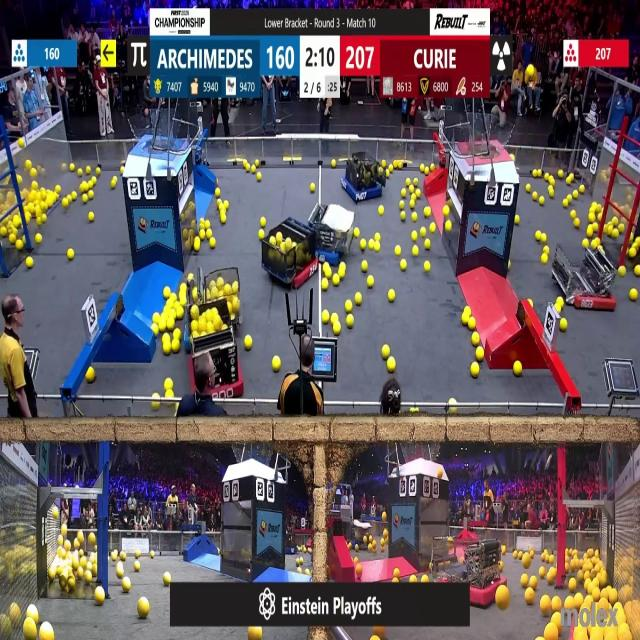ball_airborne: (526, 66, 535, 81), (76, 532, 84, 545), (90, 533, 98, 544), (62, 526, 68, 536), (17, 138, 23, 147), (26, 161, 32, 170), (31, 169, 37, 178)
ball_ground: (496, 588, 508, 610), (40, 624, 53, 640), (26, 622, 38, 639), (139, 598, 149, 618), (95, 588, 106, 606), (546, 626, 560, 640), (540, 597, 550, 615), (249, 627, 261, 640), (514, 360, 523, 376), (273, 356, 282, 371), (525, 589, 534, 604), (553, 597, 562, 612), (564, 596, 574, 609), (88, 366, 96, 381), (552, 614, 562, 626), (470, 362, 478, 376), (474, 348, 482, 362), (122, 579, 130, 593), (387, 358, 395, 372), (470, 334, 478, 347), (382, 346, 390, 359), (172, 341, 180, 354), (568, 580, 576, 593), (556, 300, 564, 313), (574, 594, 582, 607), (165, 342, 172, 356), (245, 338, 252, 352), (190, 306, 197, 320), (560, 319, 568, 331), (334, 322, 342, 334), (322, 265, 330, 277), (86, 570, 94, 582), (546, 570, 554, 582), (322, 311, 329, 324), (339, 265, 346, 278), (166, 379, 173, 392), (630, 289, 638, 300), (176, 308, 184, 319), (167, 318, 175, 329), (629, 248, 637, 259), (27, 256, 34, 268), (355, 292, 362, 304), (346, 302, 353, 314), (347, 315, 354, 327), (165, 572, 172, 584), (330, 312, 337, 324), (388, 290, 395, 302), (522, 574, 529, 586), (588, 224, 595, 236), (530, 575, 537, 587), (179, 292, 186, 304), (68, 249, 75, 260), (446, 220, 453, 231), (15, 240, 22, 251), (334, 276, 341, 287), (523, 557, 530, 568), (13, 216, 20, 227), (356, 564, 362, 576), (165, 286, 171, 298), (193, 239, 199, 251), (468, 318, 474, 330), (164, 335, 172, 344), (571, 189, 579, 198), (591, 239, 599, 248), (174, 328, 181, 338), (538, 567, 545, 577), (589, 213, 596, 223), (540, 234, 547, 244), (566, 174, 573, 184), (170, 294, 177, 304), (46, 199, 53, 209), (362, 262, 368, 273), (322, 279, 328, 290), (620, 267, 626, 278), (360, 240, 366, 251), (152, 324, 158, 335), (116, 566, 122, 577), (547, 186, 553, 197), (540, 254, 547, 263), (81, 193, 88, 202), (611, 217, 618, 226), (152, 391, 159, 400), (367, 276, 372, 288), (394, 246, 400, 256), (210, 239, 216, 249), (36, 234, 42, 244), (424, 264, 430, 274), (400, 262, 406, 272), (259, 217, 265, 227), (258, 231, 264, 241), (152, 400, 158, 410), (413, 246, 419, 256), (354, 229, 360, 239), (220, 213, 226, 223), (134, 562, 140, 572), (429, 222, 435, 232), (63, 199, 69, 209), (152, 313, 158, 323), (573, 218, 579, 228), (420, 228, 426, 238), (216, 200, 222, 210), (0, 228, 6, 238), (9, 235, 15, 245), (206, 230, 212, 240), (80, 182, 86, 192), (242, 162, 248, 172), (111, 552, 117, 562), (604, 222, 610, 232), (182, 230, 188, 240), (421, 574, 428, 582), (36, 216, 43, 224), (464, 307, 469, 318), (111, 177, 116, 188), (444, 207, 450, 216), (379, 207, 385, 216), (413, 233, 419, 242), (424, 208, 430, 217), (201, 231, 207, 240), (411, 200, 417, 209), (538, 197, 544, 206), (308, 186, 314, 195), (375, 243, 381, 252), (611, 230, 617, 239), (620, 223, 626, 232), (584, 239, 590, 248), (414, 178, 420, 187), (206, 219, 212, 228), (413, 212, 418, 222), (635, 267, 640, 277), (425, 240, 430, 250), (535, 232, 540, 242), (26, 214, 31, 224), (191, 288, 196, 298), (412, 574, 418, 582), (563, 200, 569, 208), (187, 274, 193, 282), (56, 185, 62, 193), (89, 190, 95, 198), (180, 284, 186, 292), (526, 184, 532, 192), (119, 554, 125, 562), (558, 170, 564, 178), (78, 168, 84, 176), (90, 212, 95, 221), (516, 215, 521, 224), (570, 210, 575, 219), (532, 190, 537, 199), (256, 173, 261, 182), (223, 201, 228, 210), (567, 191, 572, 200), (41, 214, 46, 223), (592, 203, 597, 212), (392, 576, 398, 583), (542, 247, 548, 254), (578, 185, 584, 192), (420, 166, 426, 173), (92, 177, 98, 184), (250, 166, 256, 173), (376, 234, 381, 242), (400, 212, 405, 220), (400, 188, 405, 196), (215, 188, 220, 196), (72, 191, 77, 199), (306, 568, 311, 576), (368, 240, 372, 250), (416, 189, 421, 197), (70, 163, 75, 171), (532, 170, 537, 178), (385, 170, 390, 178), (550, 179, 555, 187), (514, 552, 519, 560), (384, 529, 389, 537), (394, 568, 398, 577), (399, 201, 403, 210), (543, 174, 547, 183), (254, 162, 260, 168), (451, 410, 457, 416), (296, 567, 301, 574), (412, 191, 417, 198), (122, 165, 127, 172), (136, 552, 141, 559), (430, 165, 435, 172), (97, 168, 101, 176), (331, 161, 335, 169), (408, 180, 412, 188), (86, 166, 90, 174), (296, 558, 300, 566), (68, 193, 72, 201), (450, 398, 456, 403), (165, 308, 170, 314), (150, 553, 154, 560), (370, 636, 377, 640), (386, 164, 390, 171), (119, 168, 123, 174), (201, 218, 205, 224)
goal: (460, 117, 518, 158), (128, 116, 186, 152)
robot_blue: (312, 207, 353, 266), (341, 154, 383, 204), (283, 534, 299, 553)
robot_red: (190, 300, 243, 402), (552, 243, 621, 311), (452, 528, 506, 609), (261, 219, 317, 288)
